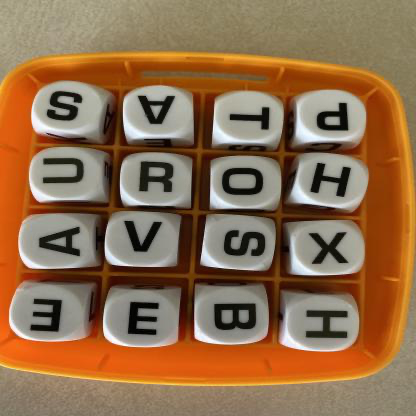a: (22, 216, 92, 268), (127, 86, 191, 134)
b: (203, 292, 268, 341)
e: (16, 285, 85, 341), (109, 291, 179, 344)
h: (300, 156, 368, 209), (294, 299, 359, 351)
o: (213, 159, 279, 208)
p: (304, 92, 365, 140)
r: (127, 155, 189, 204)
s: (211, 218, 276, 270), (38, 81, 95, 131)
t: (216, 93, 283, 142)
u: (32, 148, 102, 199)
v: (113, 212, 175, 262)
x: (296, 225, 362, 273)
